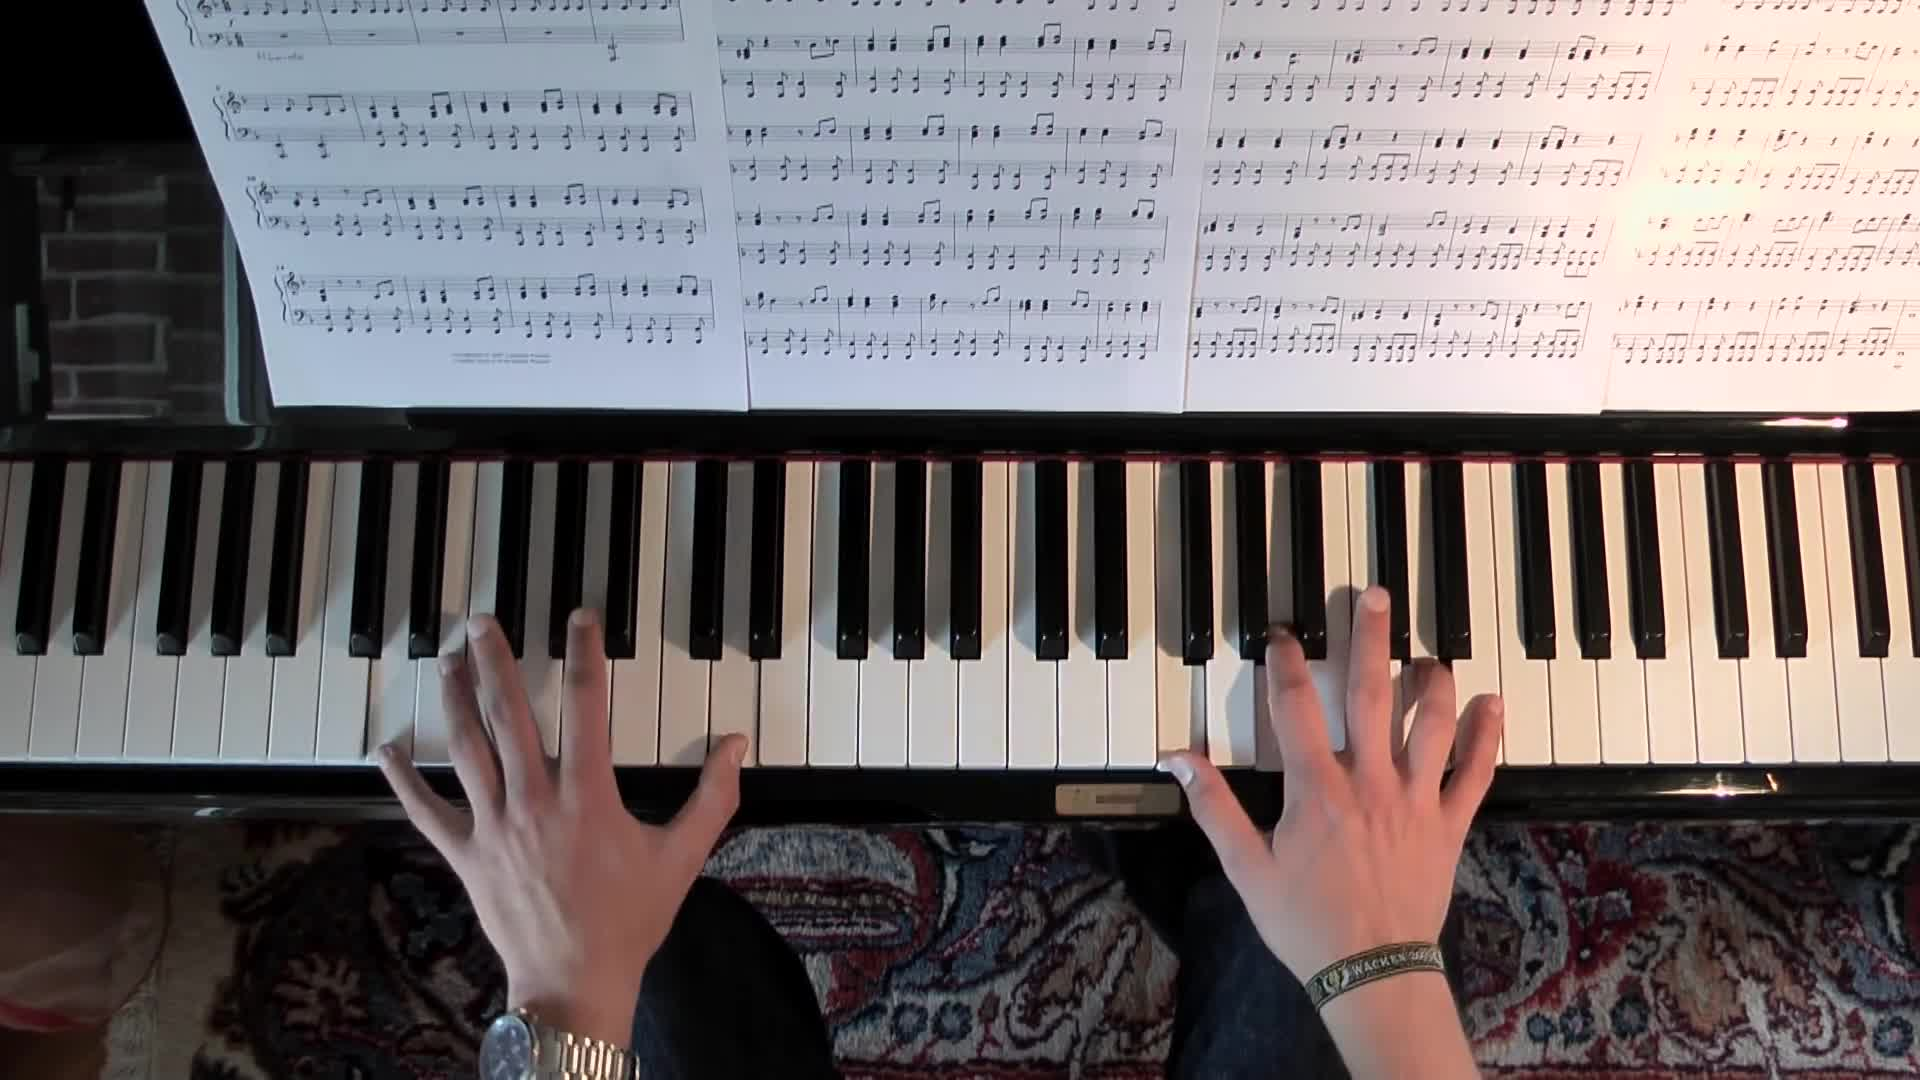left: (378, 603, 748, 967)
right: (1167, 585, 1507, 963)
